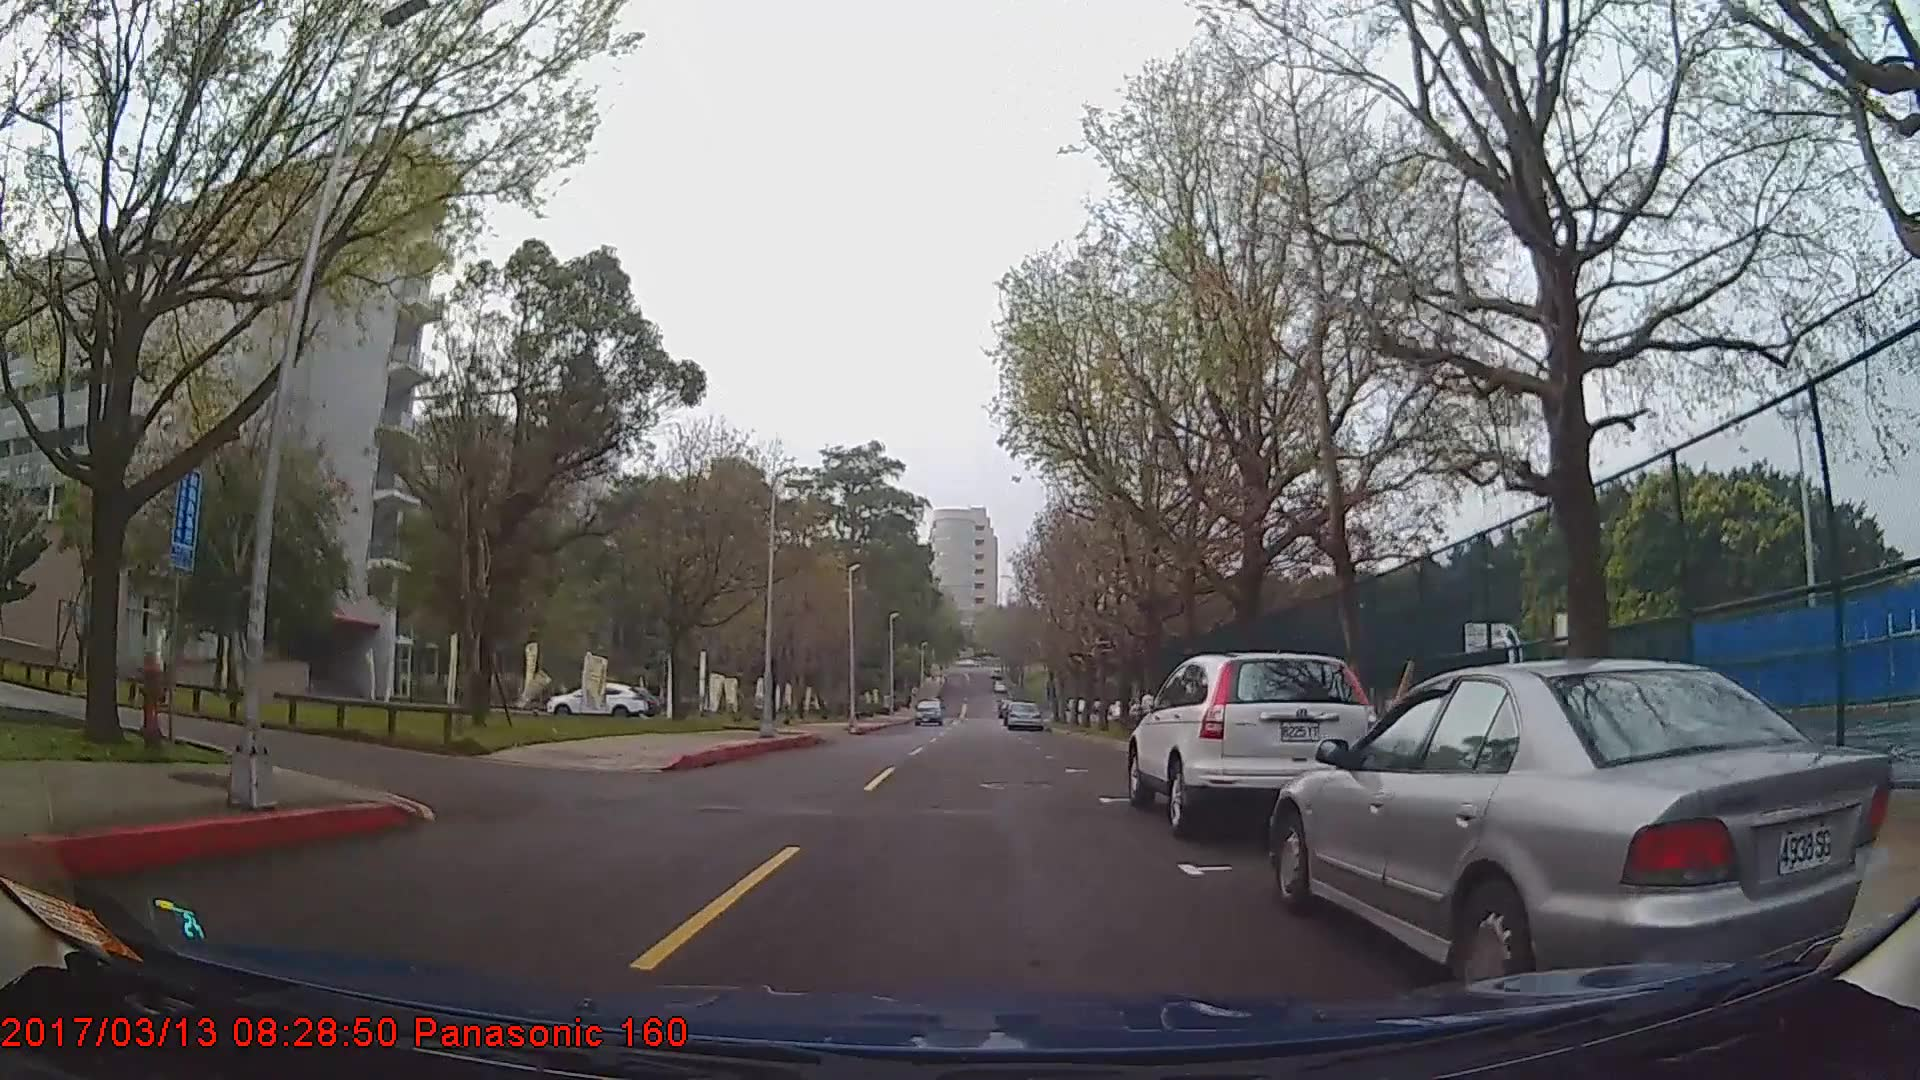vehicle: (1267, 657, 1894, 1015), (1127, 653, 1378, 837), (546, 679, 649, 717), (1004, 698, 1040, 729), (913, 694, 943, 724)
